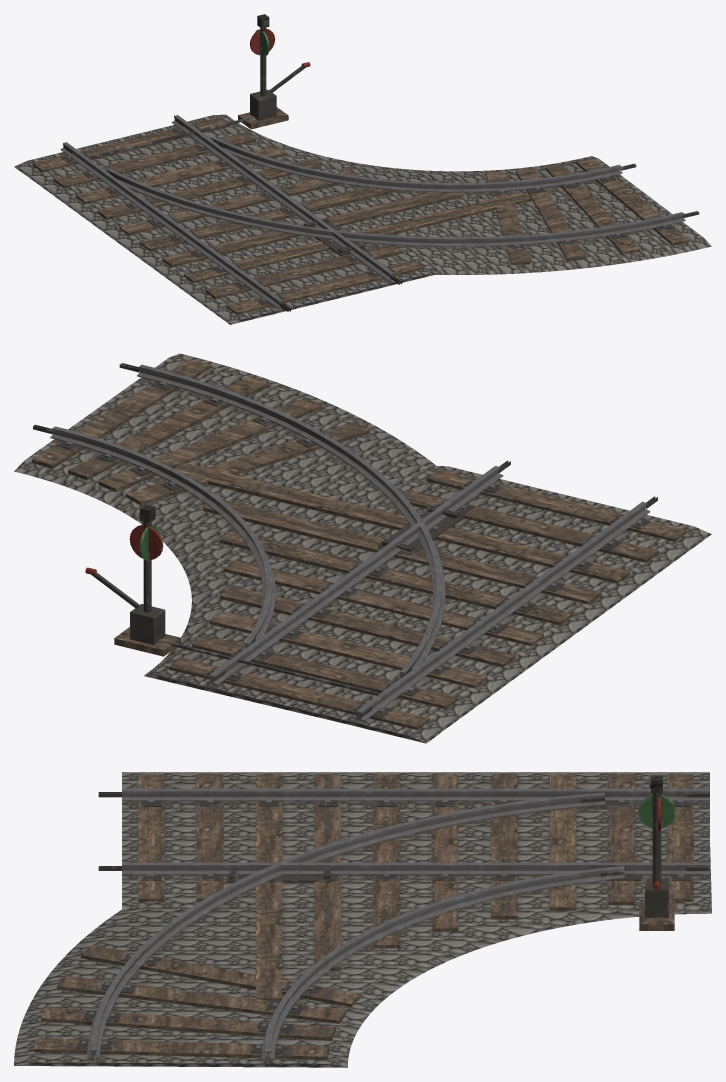
Rendered from feRailSwitchL_HD.fbx.
The picture shows the model from 3 angles, top to bottom: view 1: azimuth 30°, elevation 25°; view 2: azimuth 150°, elevation 25°; view 3: azimuth 270°, elevation 25°; orthographic projection. The views are drawn at different scales.
Visible parts, largest first — view 1: feRailSwitchL_Track; view 2: feRailSwitchL_Track; view 3: feRailSwitchL_Track.
Part boxes in pixels (x1,y1,x2,y2): feRailSwitchL_Track: (14,14,711,324); feRailSwitchL_Track: (14,353,711,743); feRailSwitchL_Track: (14,772,711,1067).
Size of the model in its own units: 6.13 by 1.38 by 5.94.
Materials: 1 (1 with a texture image).
